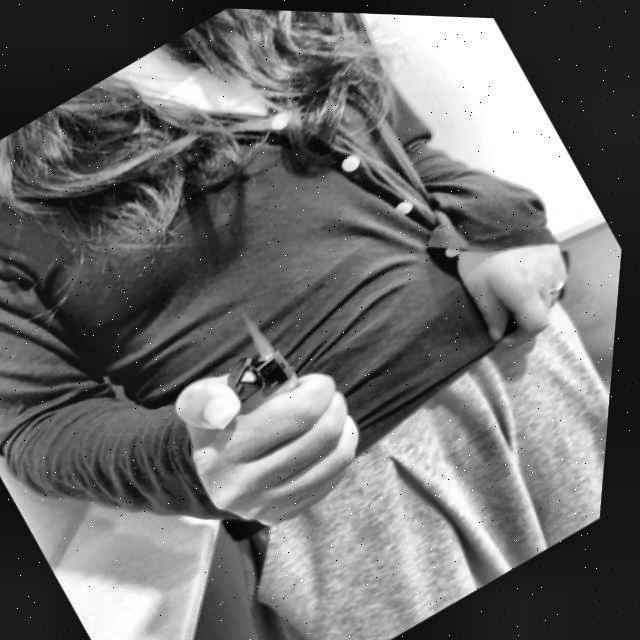Fire: (246, 315, 284, 358)
